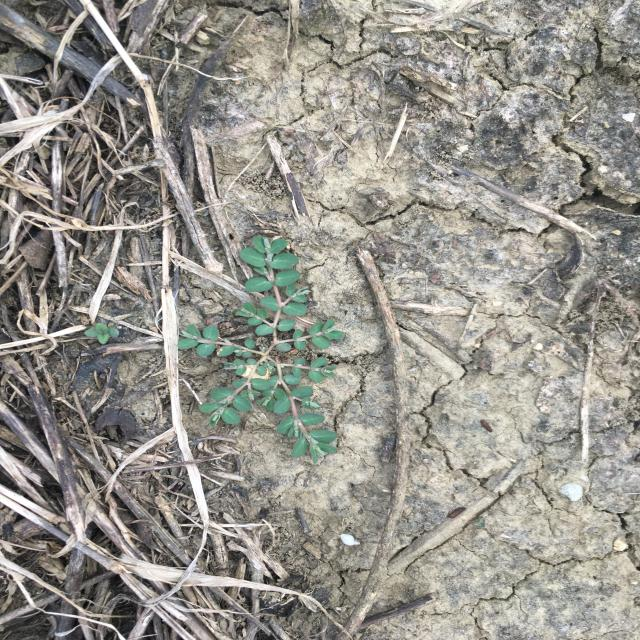SpottedSpurge: (175, 233, 347, 466)
